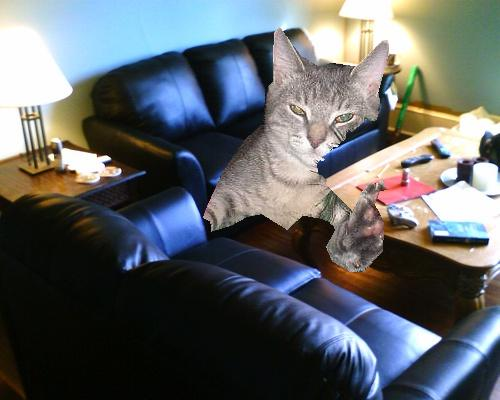tampered: (204, 28, 389, 272)
